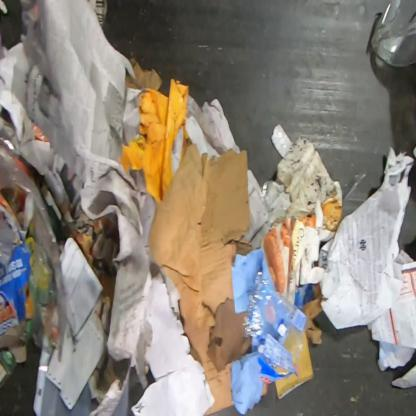cardboard: (148, 142, 253, 415), (126, 56, 162, 92), (302, 284, 322, 344)
rigid_plastic: (370, 0, 416, 68)
soft_plastic: (0, 126, 68, 363), (242, 271, 310, 383), (32, 352, 101, 415), (271, 123, 294, 159)
